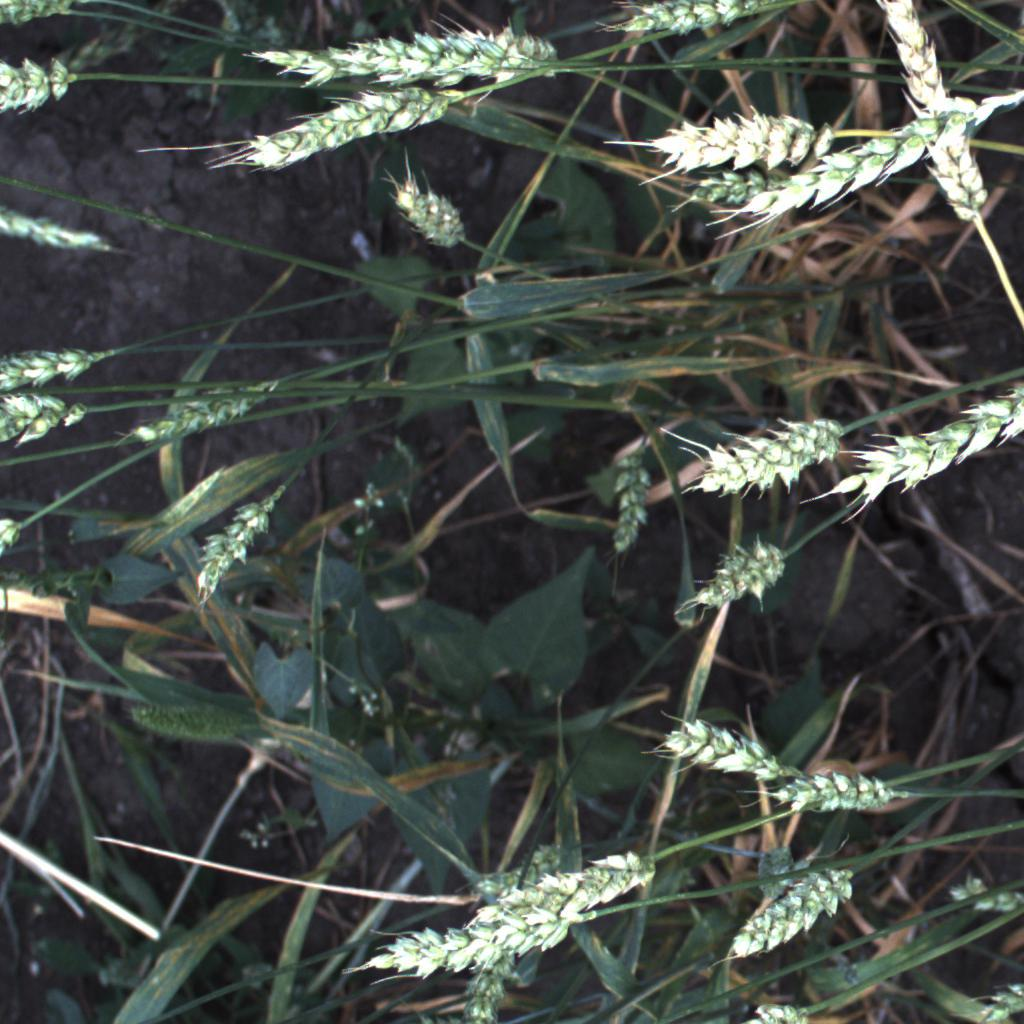0-0: (715, 84, 1019, 258), (870, 0, 1001, 226), (236, 11, 574, 96), (828, 371, 1024, 517), (324, 892, 607, 990), (222, 74, 476, 180), (451, 835, 671, 935), (627, 96, 845, 180), (718, 848, 866, 968), (116, 363, 282, 460), (639, 692, 792, 791), (687, 410, 836, 497), (186, 486, 287, 613), (380, 165, 487, 261), (1, 313, 112, 402), (602, 0, 807, 45), (683, 541, 784, 628), (4, 192, 120, 261), (752, 764, 908, 815), (599, 431, 659, 563), (676, 151, 799, 213), (0, 49, 91, 123), (0, 390, 96, 455), (452, 947, 521, 1024)
